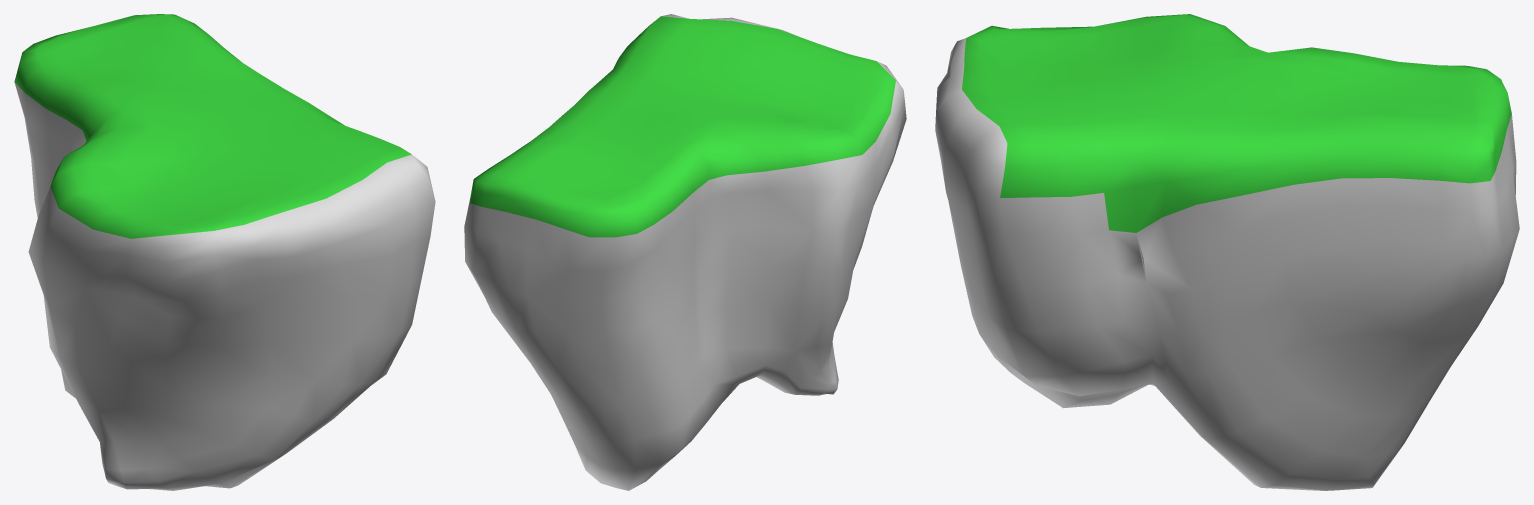
The model's file is platform_end_m_02.fbx.
3 views of the same model, side by side, from view 1: azimuth 30°, elevation 25°; view 2: azimuth 150°, elevation 25°; view 3: azimuth 270°, elevation 25° (orthographic). The views are drawn at different scales.
Parts seen in each view (by area): view 1: platform_central_04.003; view 2: platform_central_04.003; view 3: platform_central_04.003.
Boxes of the visible parts, x1,y1,x2,y2 form: platform_central_04.003: [14, 14, 435, 490]; platform_central_04.003: [464, 14, 906, 490]; platform_central_04.003: [935, 14, 1519, 490].
Bounding box in the file's own units: 10.43 × 11.94 × 15.65.
